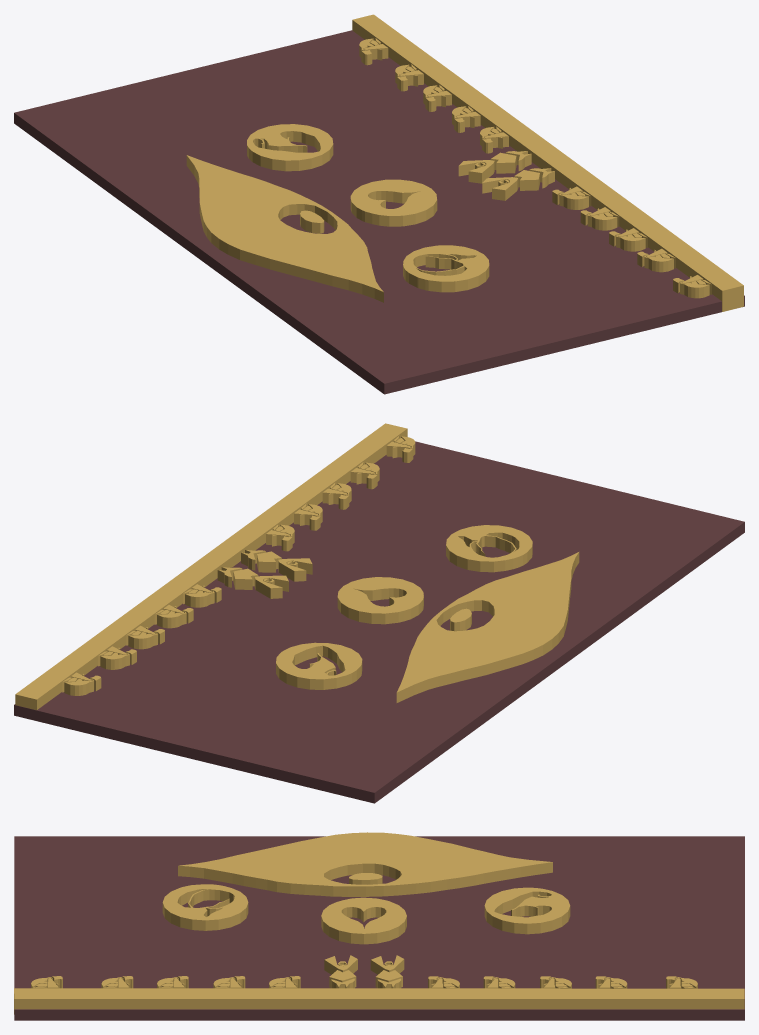
Rendered from fresque_1.fbx.
3 views of the same model, one above another, from view 1: azimuth 30°, elevation 25°; view 2: azimuth 150°, elevation 25°; view 3: azimuth 270°, elevation 25° (orthographic).
Visible parts, largest first — view 1: Plane.001, Cube.002; view 2: Plane.001, Cube.002; view 3: Plane.001, Cube.002.
Boxes of the visible parts, x1,y1,x2,y2 form: Plane.001: [14, 30, 744, 394]; Cube.002: [186, 14, 743, 311]; Plane.001: [14, 441, 744, 803]; Cube.002: [15, 423, 579, 710]; Plane.001: [14, 836, 744, 1020]; Cube.002: [14, 832, 744, 1014].
Bounding box in the file's own units: 281 × 15.92 × 500.
